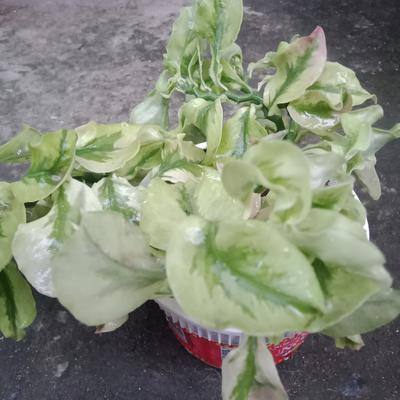Pothos plant: (95, 43, 383, 339)
